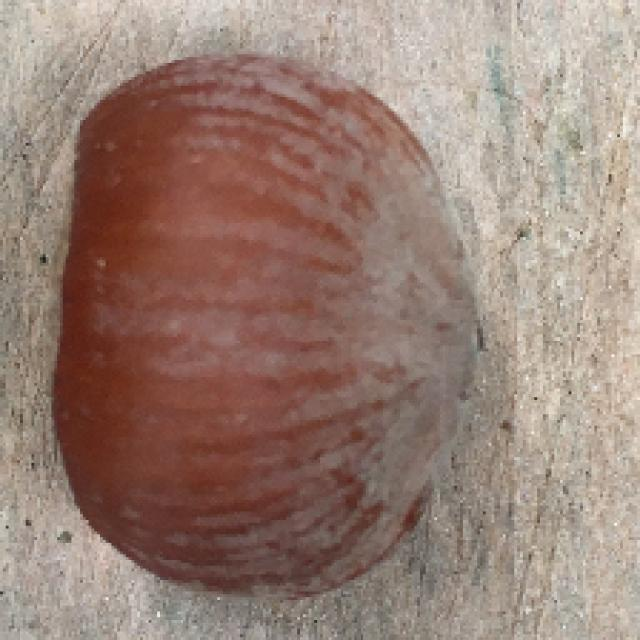qualityHazelnut: (22, 55, 501, 605)
